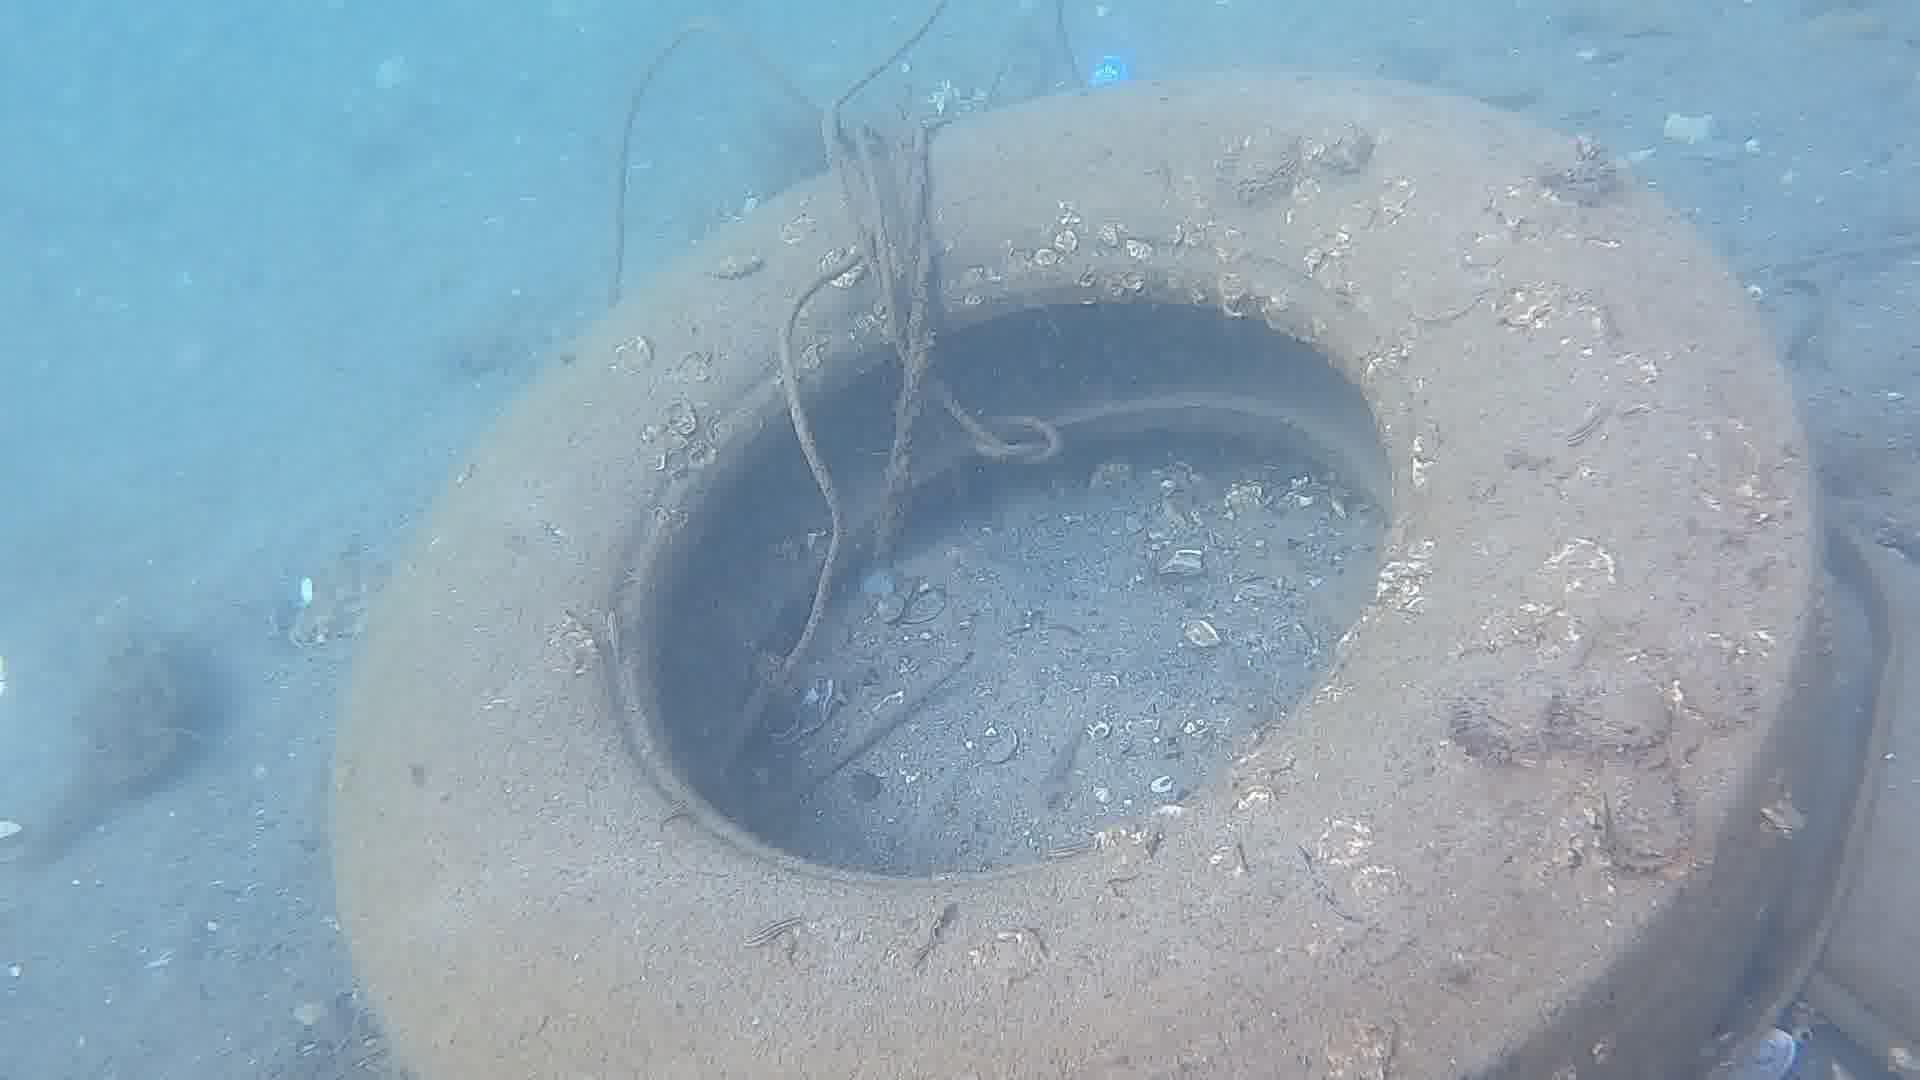bundle of ropes: (609, 0, 1089, 669)
tire: (324, 63, 1833, 1080)
